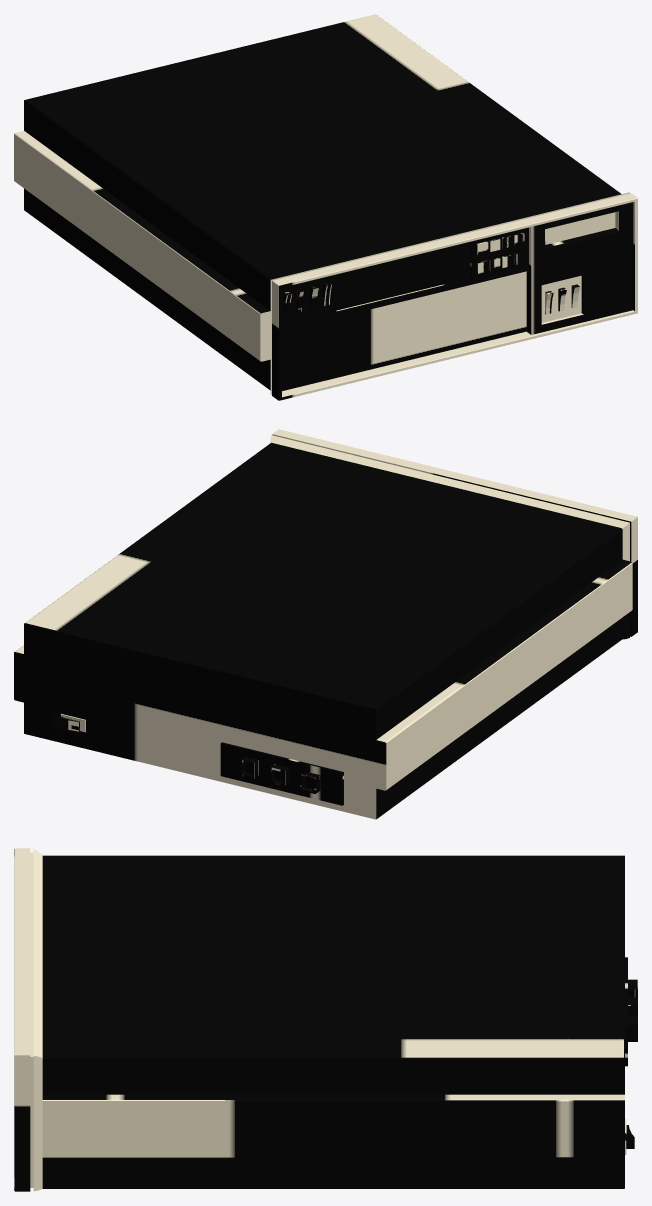
Rendered from money_printer.fbx.
The picture shows the model from 3 angles, top to bottom: view 1: azimuth 30°, elevation 25°; view 2: azimuth 150°, elevation 25°; view 3: azimuth 270°, elevation 25°; orthographic projection. The views are drawn at different scales.
Parts seen in each view (by area): view 1: Cube, Cube.001, Cube.004, Cube.005; view 2: Cube, Cube.006; view 3: Cube, Cube.006.
Boxes of the visible parts, left/top/right/bottom form: Cube: left=14, top=14, right=637, bottom=400; Cube.001: left=283, top=282, right=331, bottom=315; Cube.004: left=477, top=232, right=524, bottom=254; Cube.005: left=477, top=251, right=524, bottom=273; Cube: left=14, top=429, right=637, bottom=819; Cube.006: left=239, top=756, right=320, bottom=793; Cube: left=14, top=848, right=627, bottom=1191; Cube.006: left=628, top=979, right=637, bottom=1041.
Size of the model in its own units: 162 by 48.02 by 199.
